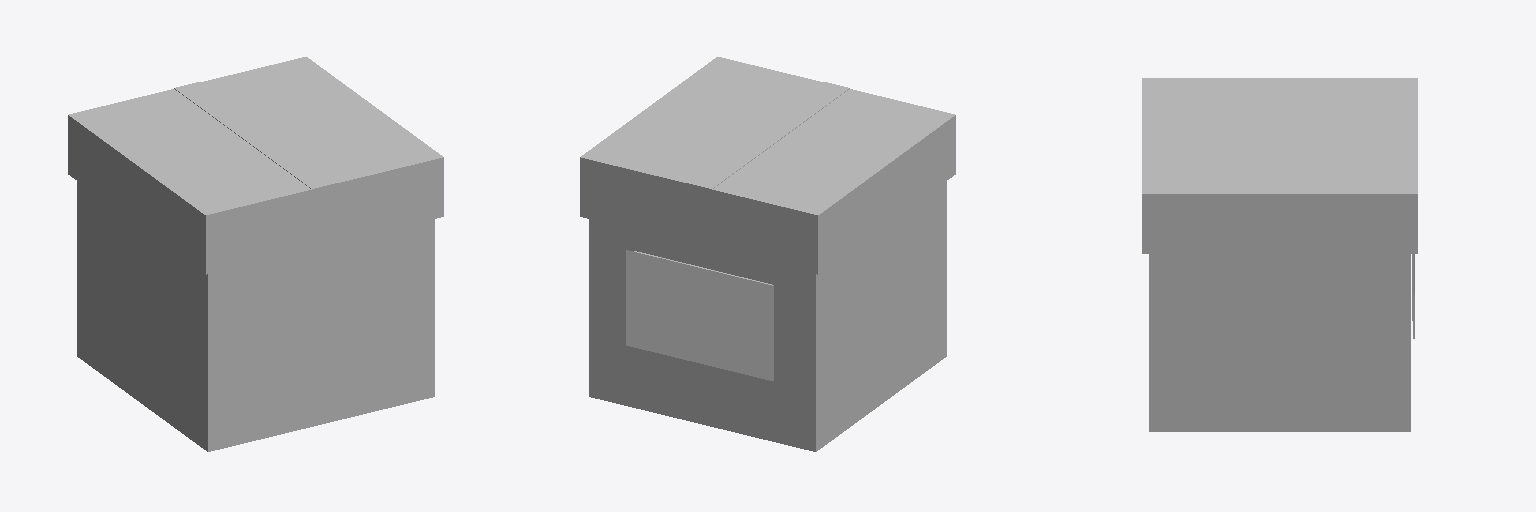
File: caja.obj
3 renders of one model, left to right at view 1: azimuth 30°, elevation 25°; view 2: azimuth 150°, elevation 25°; view 3: azimuth 270°, elevation 25°, orthographic.
Parts seen in each view (by area): view 1: Cube, k_Cube.001; view 2: k_Cube.001, Cube, e_Plane; view 3: k_Cube.001, Cube.
Part boxes in pixels (x1,y1,x2,y2): Cube: (77, 181, 434, 451); k_Cube.001: (68, 57, 443, 274); k_Cube.001: (580, 57, 955, 285); Cube: (589, 181, 946, 451); e_Plane: (626, 250, 773, 380); k_Cube.001: (1142, 78, 1417, 338); Cube: (1149, 254, 1410, 431).
Size of the model in its own units: 2.1 by 2.03 by 2.11.